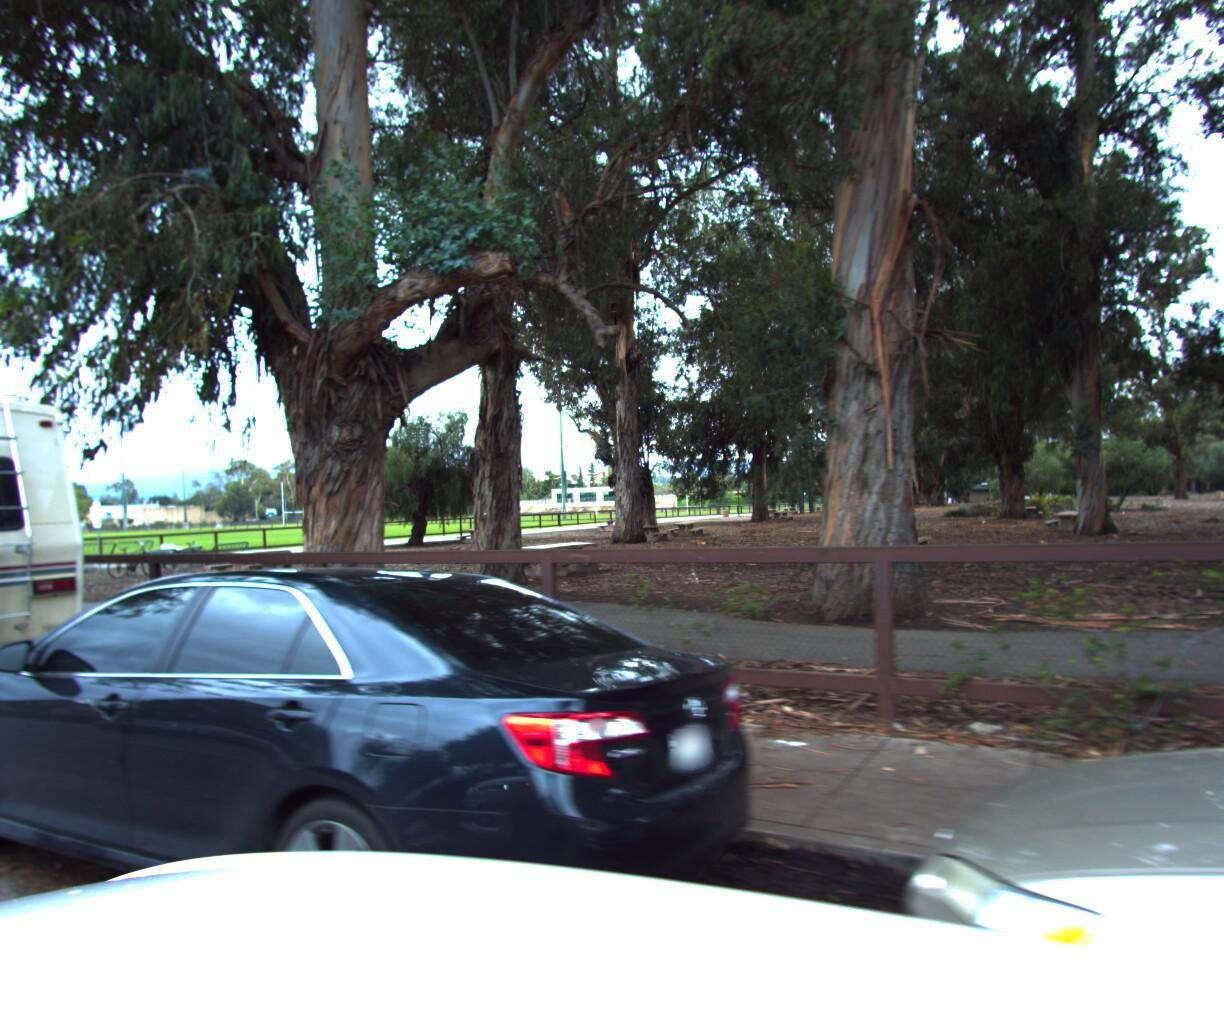bicycle: (101, 541, 182, 582), (157, 543, 220, 574)
car: (0, 552, 779, 1024)
other_vehicle: (0, 281, 149, 779)
